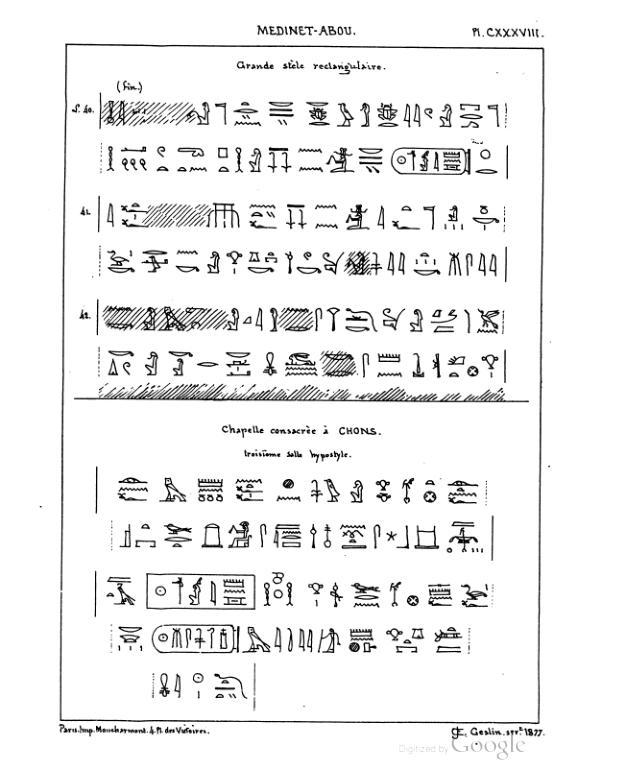circle: (147, 621, 246, 657), (387, 144, 475, 176)
